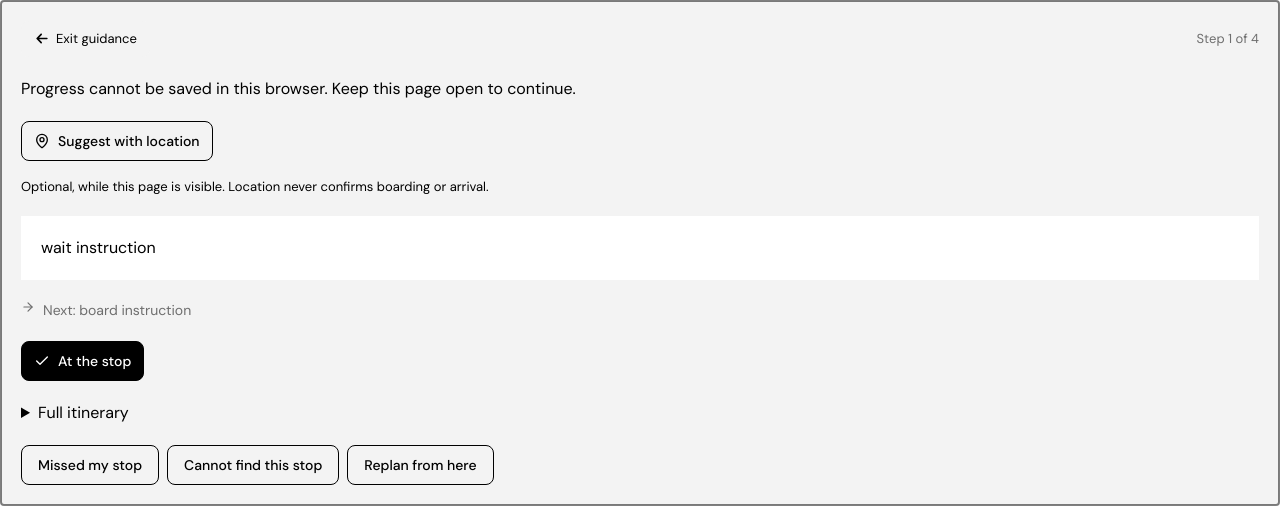
Test case: Passenger-controlled guidance › continues manually and discloses when browser storage is unavailable
Expected: the text "Progress cannot be saved in this browser. Keep this page open to continue." is shown, left=21, top=78, right=576, bottom=99
Click the button "At the stop": (83, 361) left=21, top=341, right=144, bottom=381
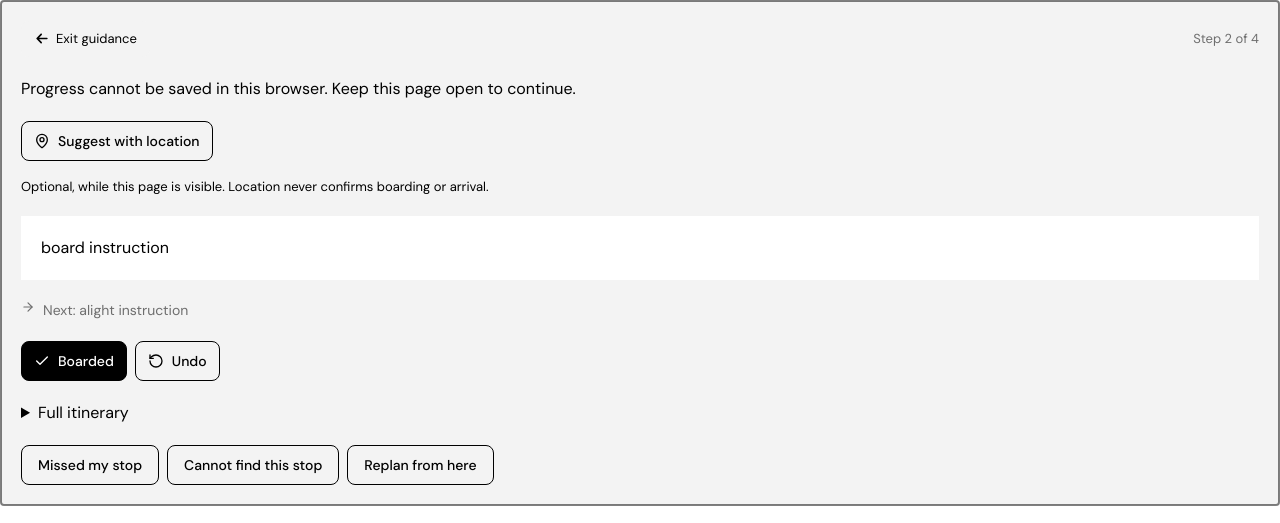
Expected: the button "Boarded" is shown, left=21, top=341, right=127, bottom=381
